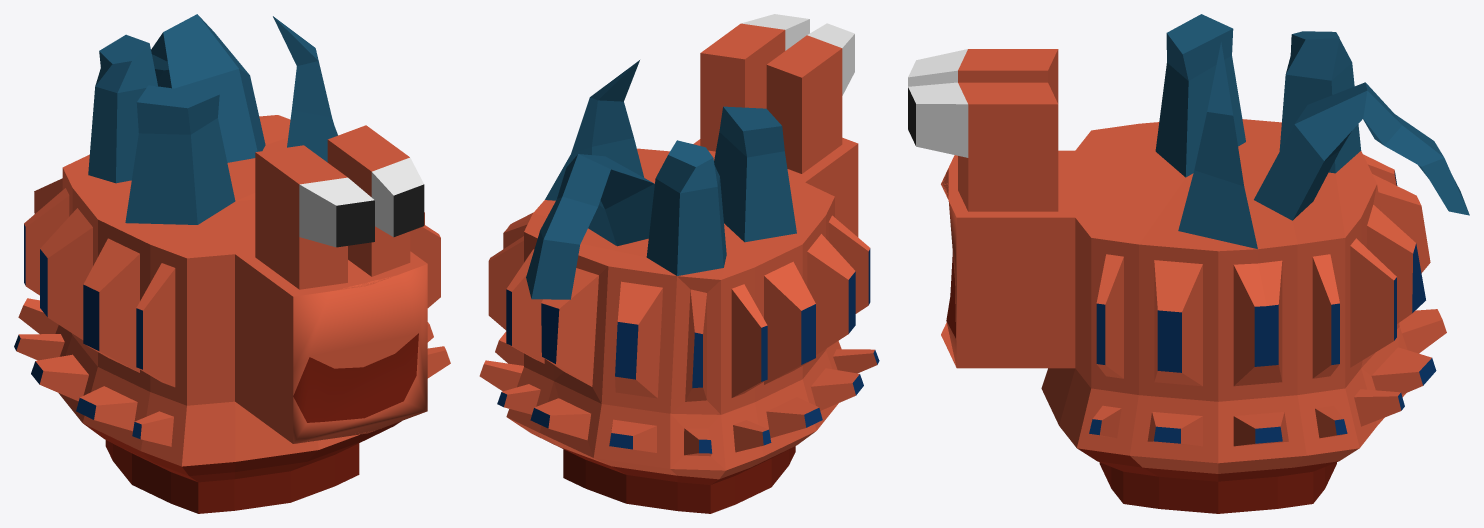
File: banditFlyingHeadblend.glb
3 views of the same model, side by side, from view 1: azimuth 30°, elevation 25°; view 2: azimuth 150°, elevation 25°; view 3: azimuth 270°, elevation 25° (orthographic). The views are drawn at different scales.
Parts seen in each view (by area): view 1: Cube; view 2: Cube; view 3: Cube.
Part boxes in pixels (x1=…): Cube: x1=14, y1=14, x2=450, y2=513; Cube: x1=479, y1=14, x2=879, y2=513; Cube: x1=908, y1=14, x2=1469, y2=513.
Bounding box in the file's own units: 3.47 × 4.12 × 4.73.
1 material, 1 textured.
